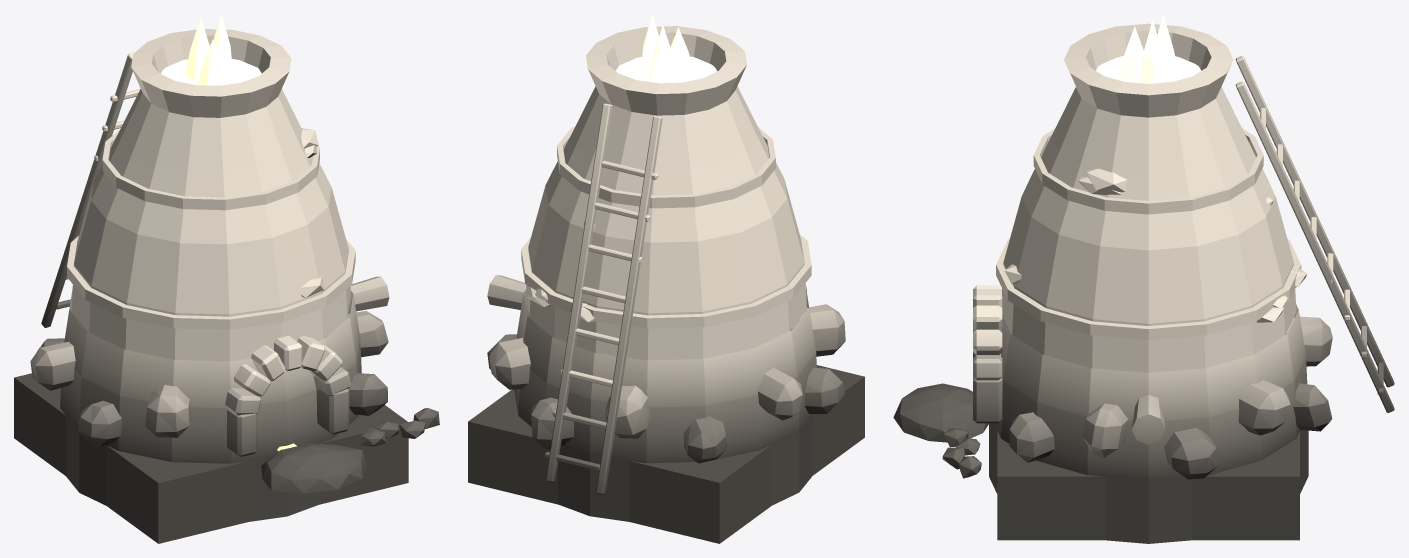
The model's file is SM_VK_Prop_Bloomery.fbx.
The picture shows the model from 3 angles, left to right: view 1: azimuth 30°, elevation 25°; view 2: azimuth 150°, elevation 25°; view 3: azimuth 270°, elevation 25°; orthographic projection. The views are drawn at different scales.
Parts seen in each view (by area): view 1: SM_VK_Prop_Bloomery.001; view 2: SM_VK_Prop_Bloomery.001; view 3: SM_VK_Prop_Bloomery.001.
Boxes of the visible parts, bbox=[...] form: SM_VK_Prop_Bloomery.001: bbox=[14, 14, 439, 543]; SM_VK_Prop_Bloomery.001: bbox=[468, 14, 864, 543]; SM_VK_Prop_Bloomery.001: bbox=[893, 14, 1394, 543].
Bounding box in the file's own units: 3.26 × 4.22 × 4.14.
